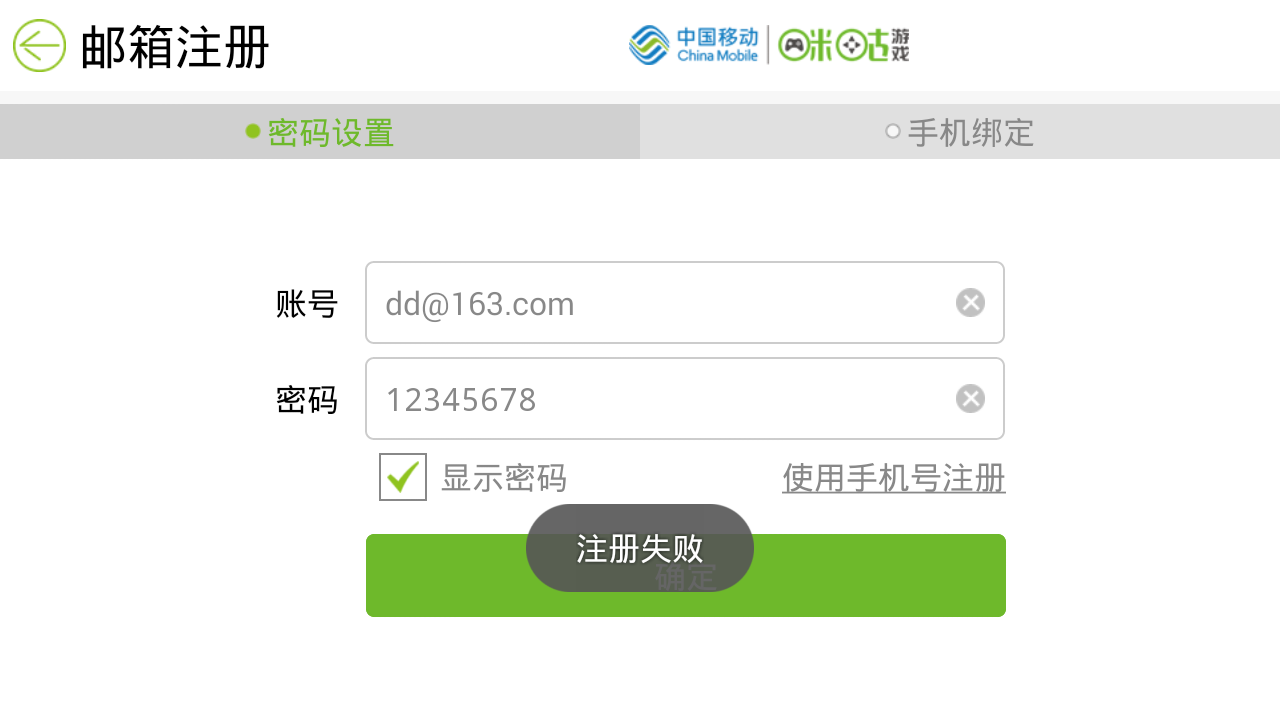alert: (524, 498, 758, 594)
